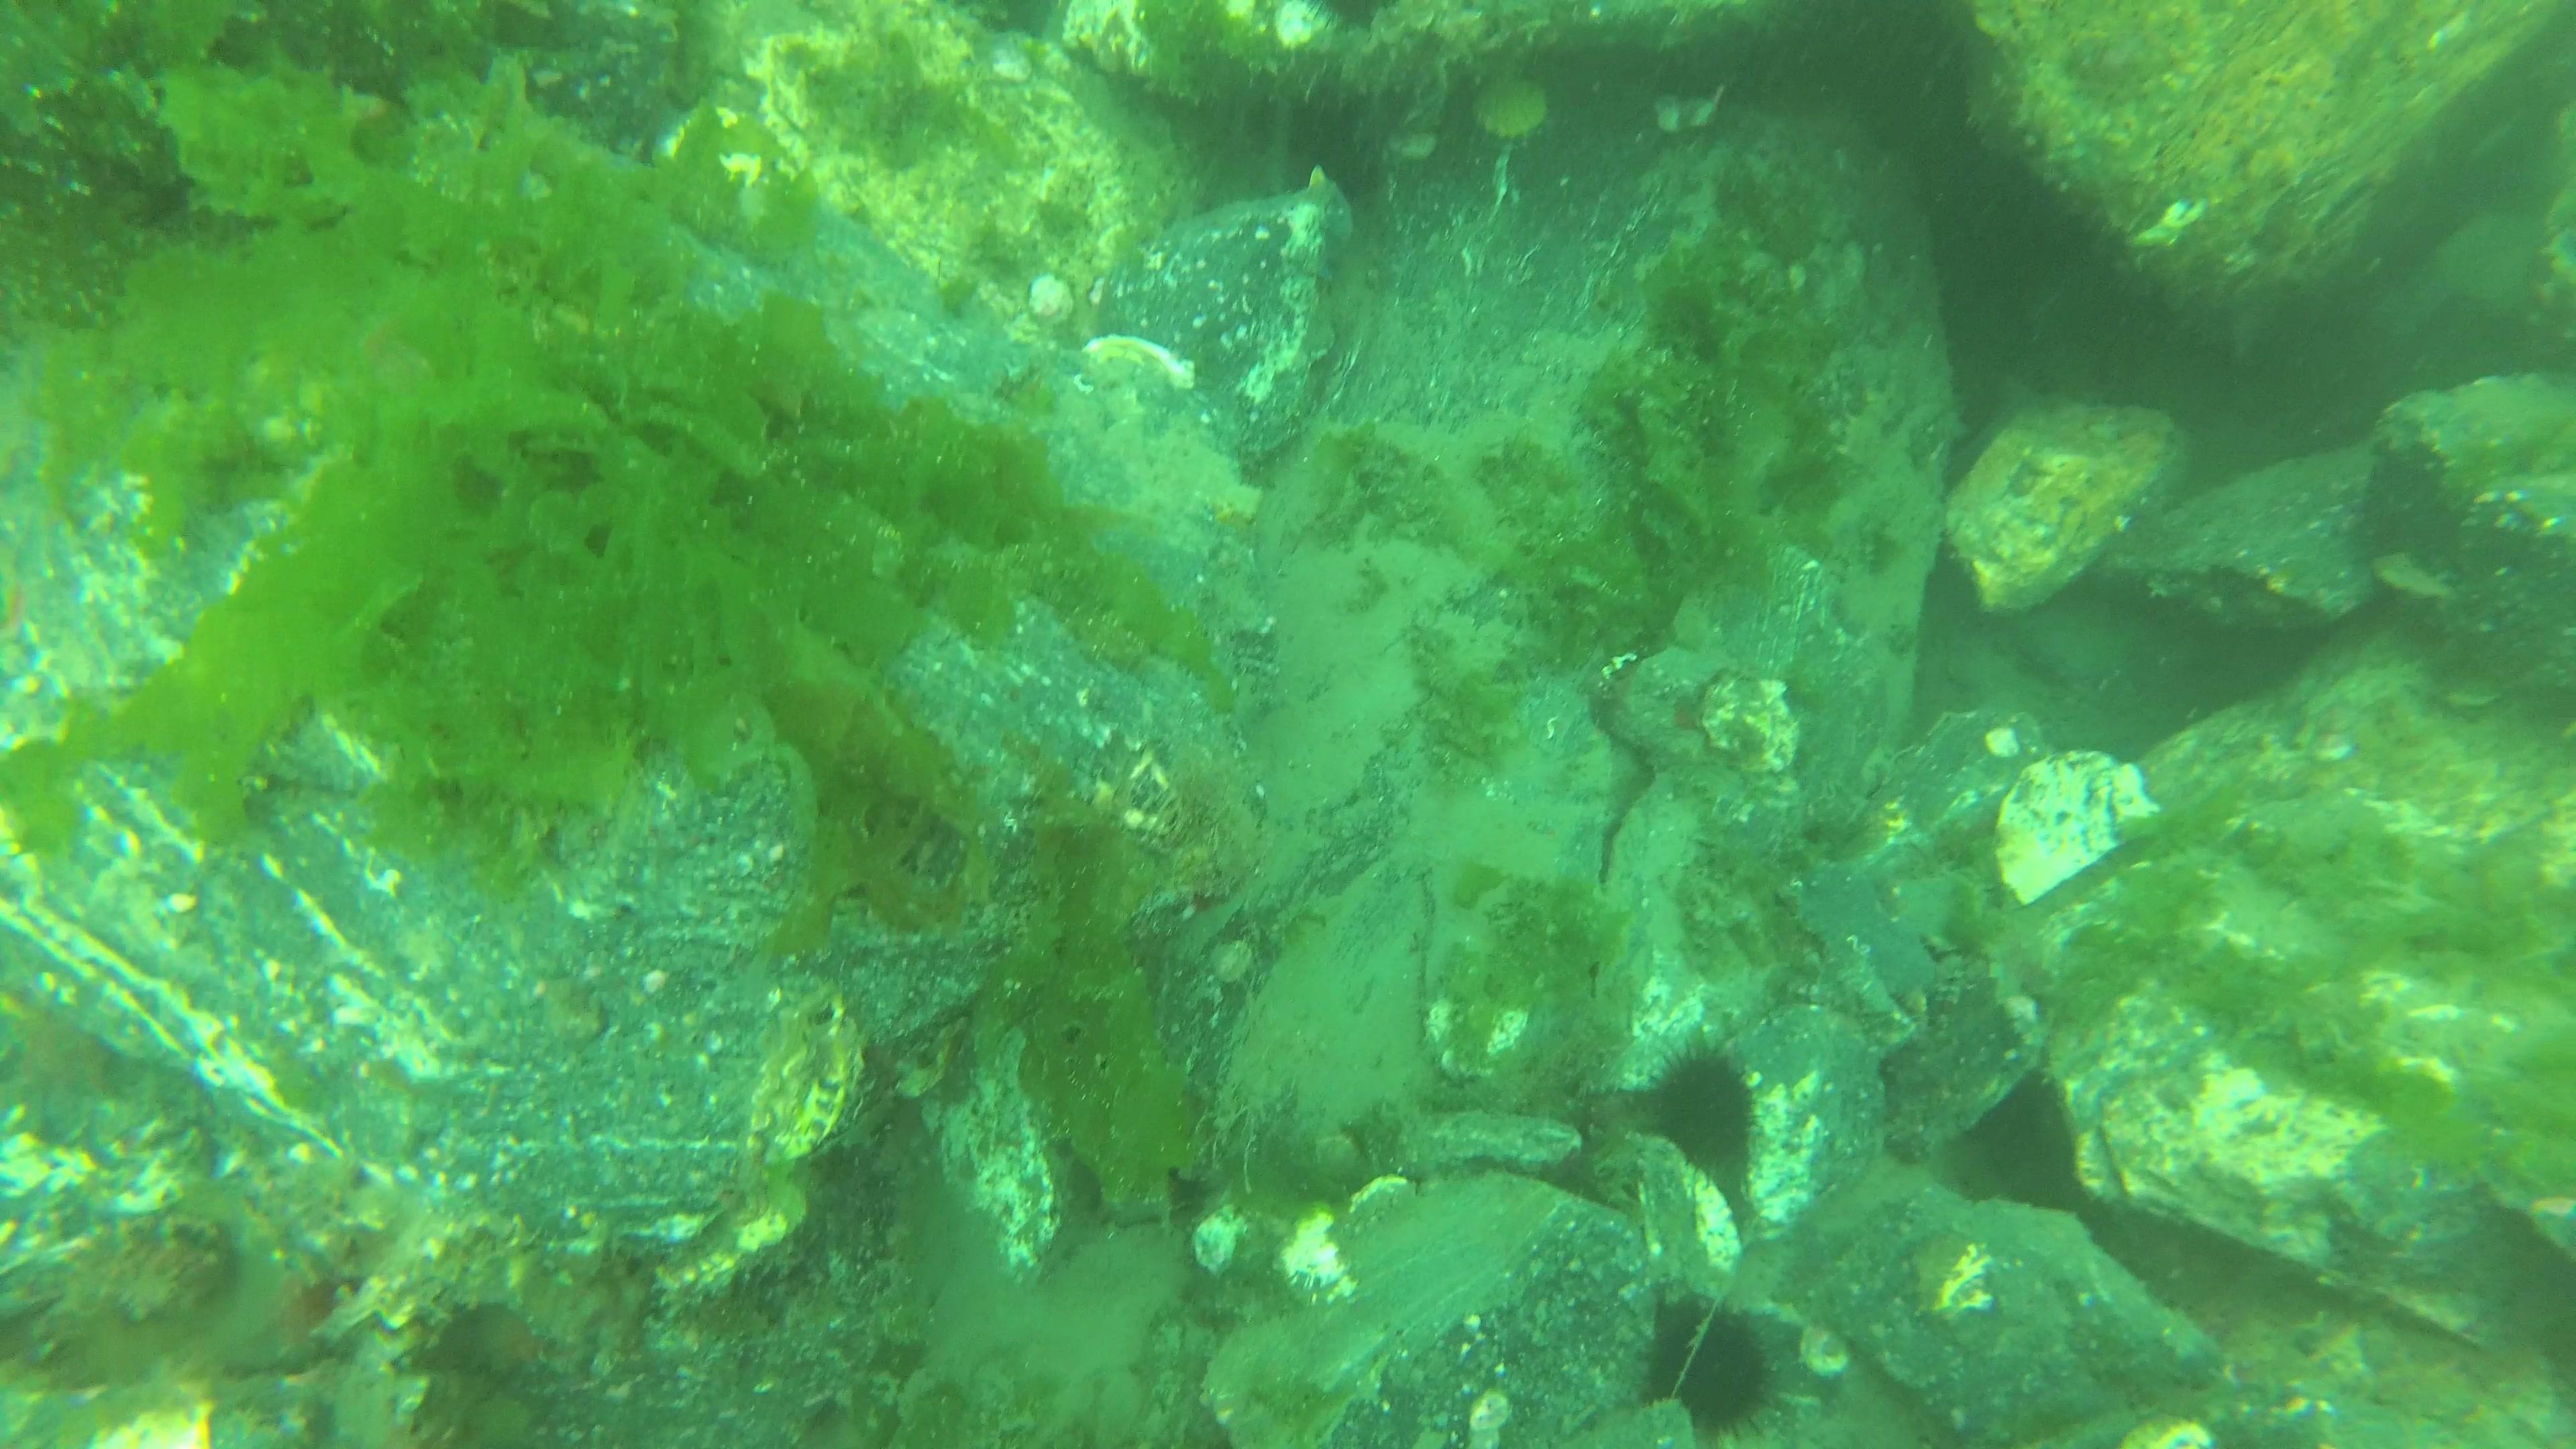echinus: (1629, 1288, 1785, 1438), (1642, 1039, 1764, 1178)
